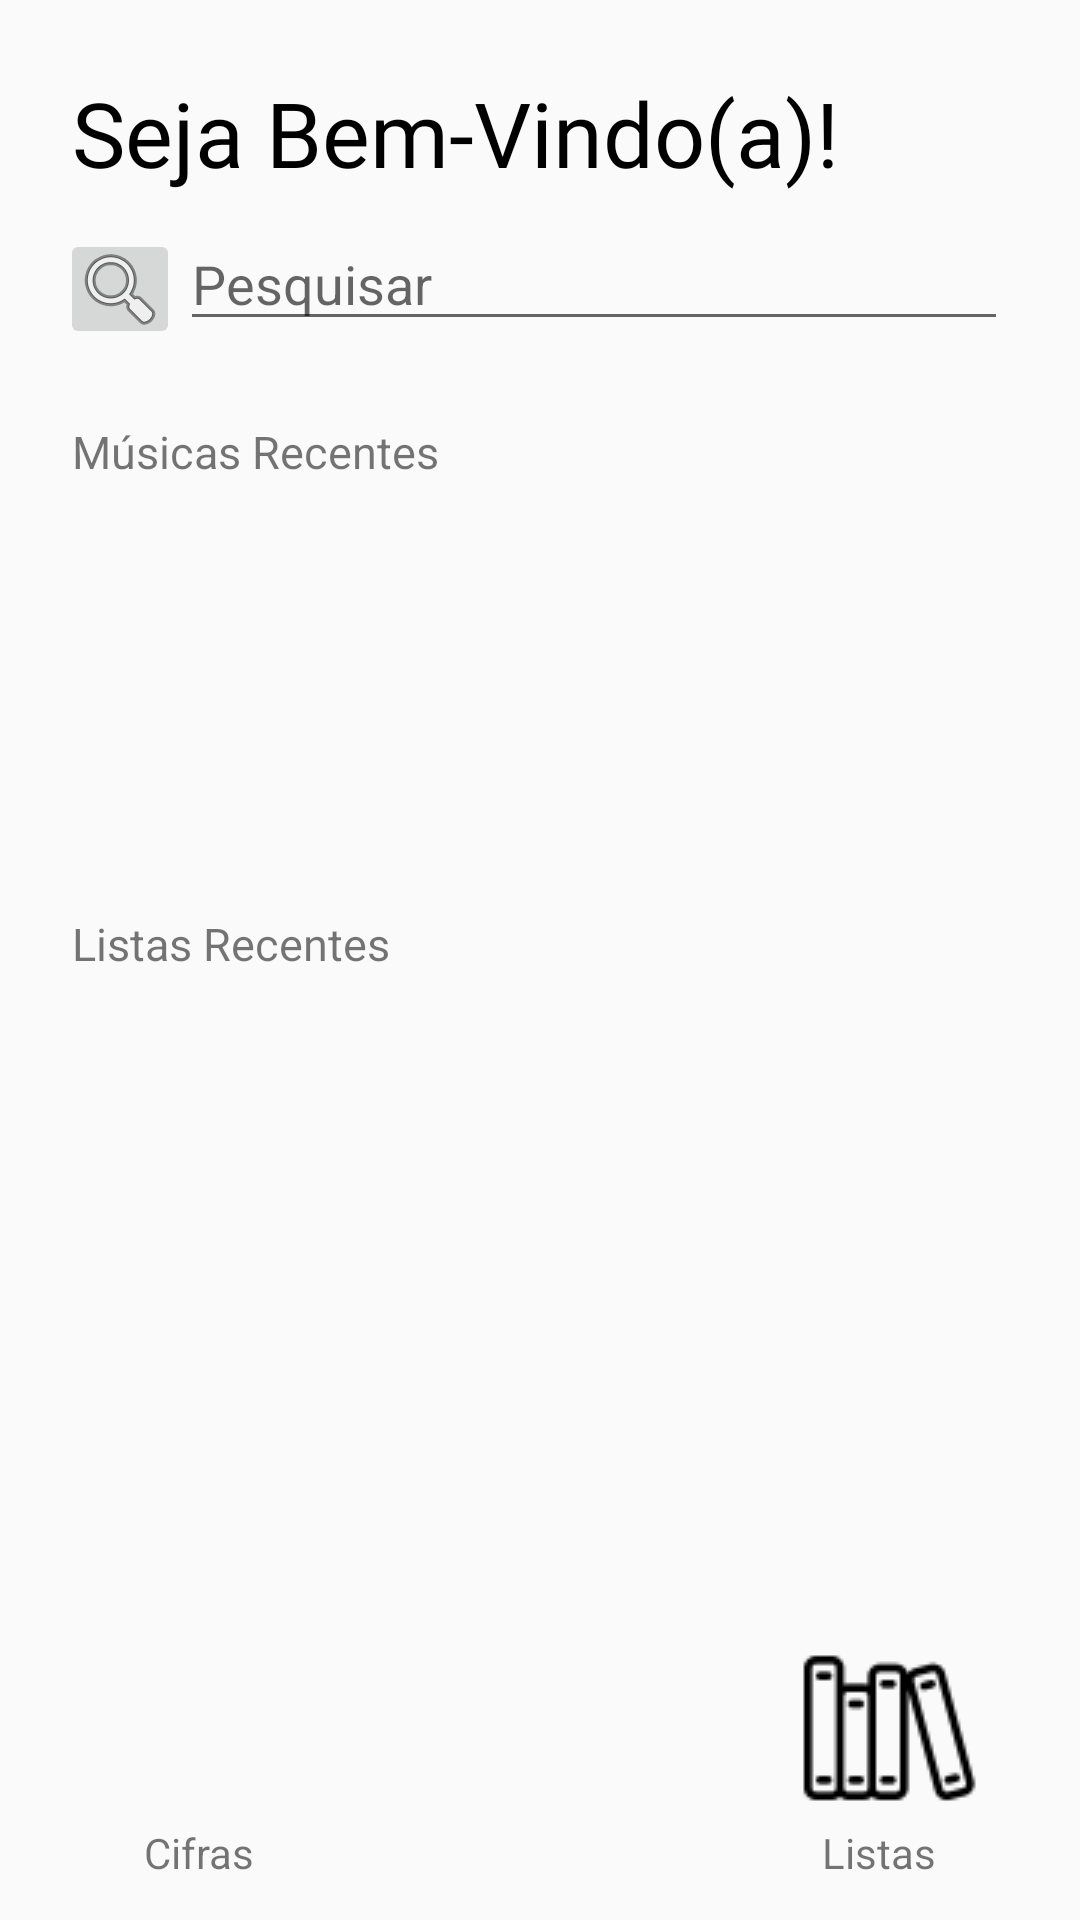

Locate icon controls on the screen. Image size 1080×1920, boxes as box(x1, y1, x2, y2).
books: box(803, 1655, 976, 1801)
search: box(72, 247, 168, 331)
